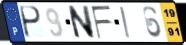6: (142, 6, 163, 40)
9: (45, 6, 65, 39)
F: (90, 5, 113, 41)
I: (119, 6, 133, 40)
N: (66, 5, 97, 41)
P: (20, 5, 43, 40)
